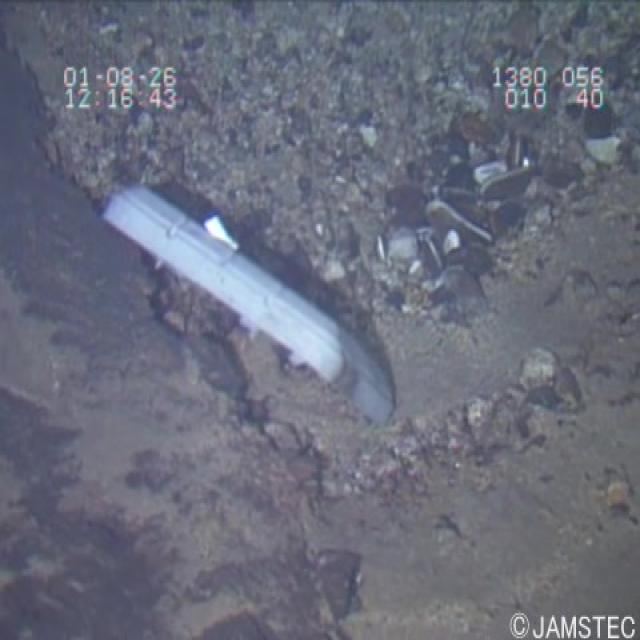plastic: (84, 169, 415, 446)
